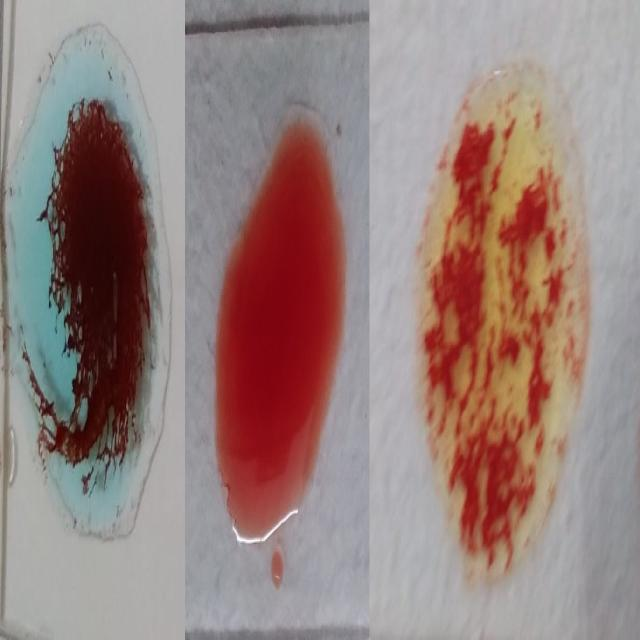A: (16, 29, 172, 544)
B: (418, 70, 588, 584)
